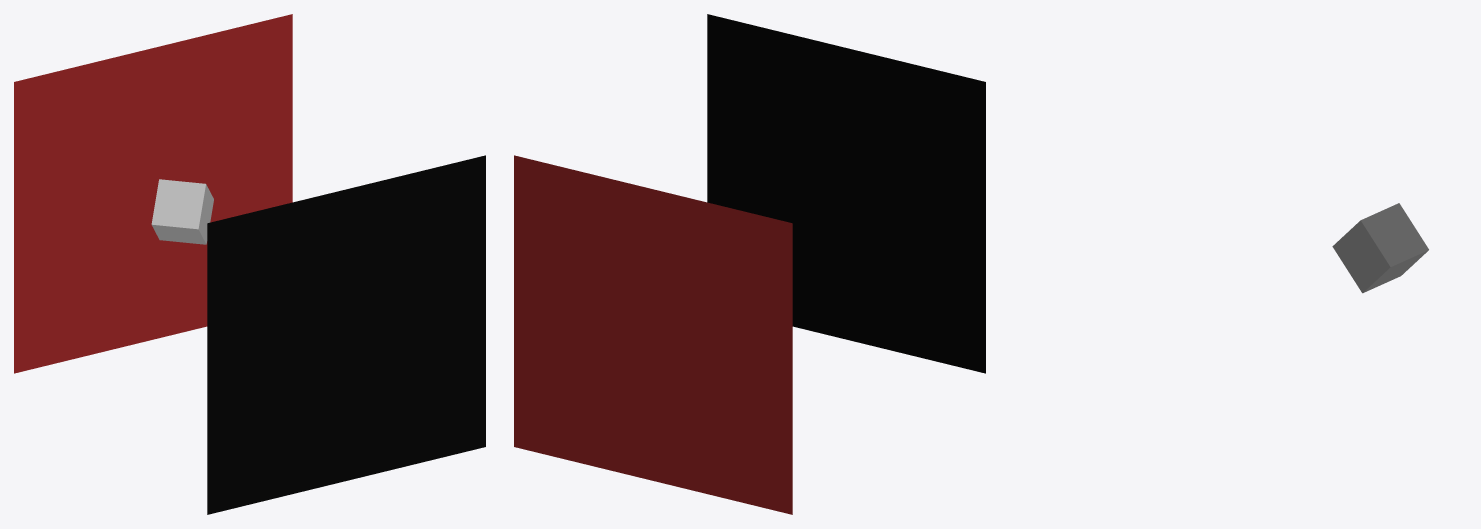
File: cube_backplane.obj
3 views of the same model, side by side, from view 1: azimuth 30°, elevation 25°; view 2: azimuth 150°, elevation 25°; view 3: azimuth 270°, elevation 25° (orthographic). The views are drawn at different scales.
Size of the model in its own units: 4 by 4 by 4.8.
